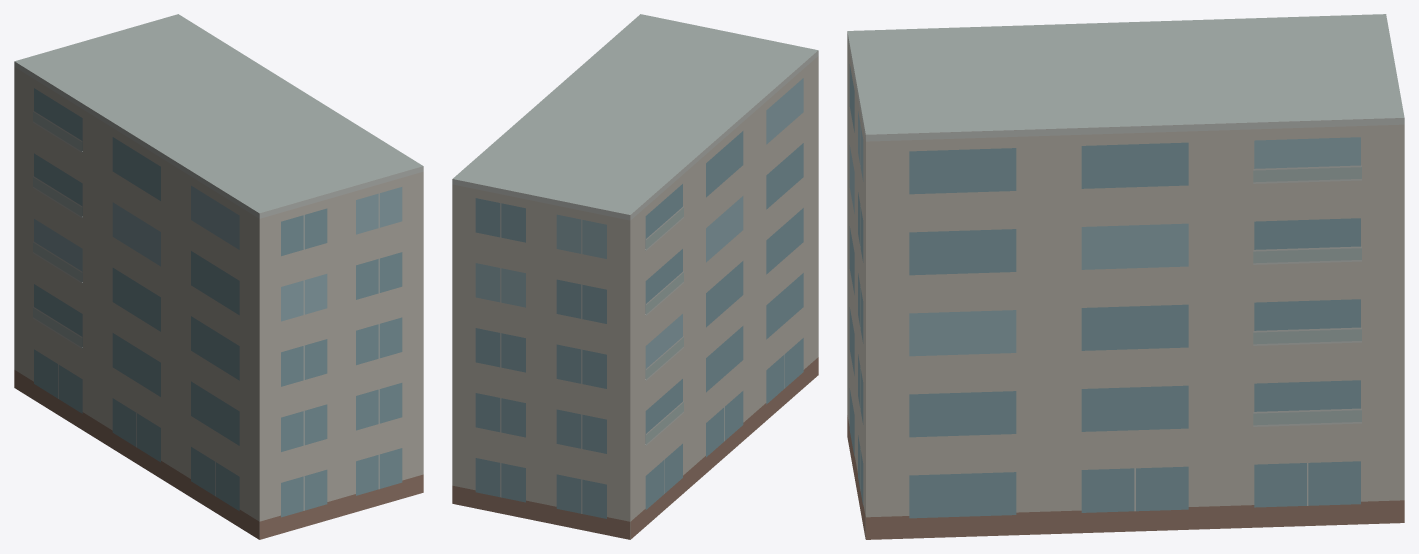
The model's file is survey-upis-32606035.glb.
The picture shows the model from 3 angles, left to right: view 1: azimuth 30°, elevation 25°; view 2: azimuth 150°, elevation 25°; view 3: azimuth 270°, elevation 25°; orthographic projection. The views are drawn at different scales.
Visible parts, largest first — view 1: survey-upis-32606035.tmp; view 2: survey-upis-32606035.tmp; view 3: survey-upis-32606035.tmp.
Part boxes in pixels (x1=…): survey-upis-32606035.tmp: x1=14, y1=14, x2=423, y2=539; survey-upis-32606035.tmp: x1=452, y1=14, x2=818, y2=539; survey-upis-32606035.tmp: x1=847, y1=14, x2=1404, y2=539.
Bounding box in the file's own units: 9.28 × 14.5 × 18.09.
